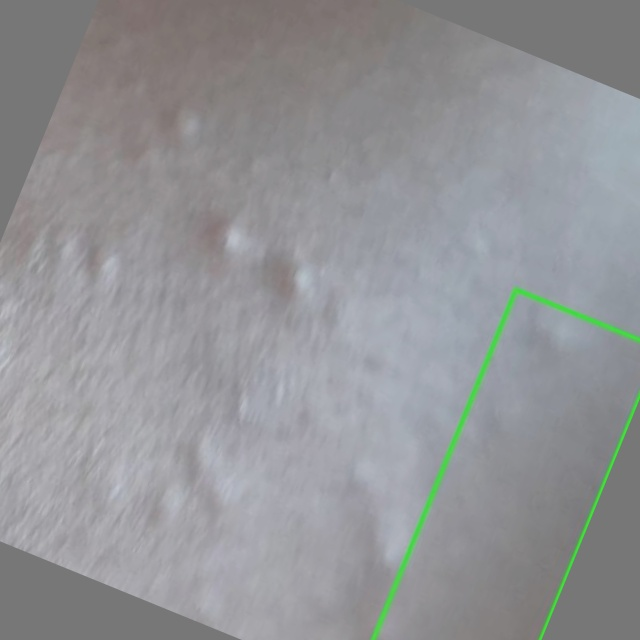Seborrheic Dermatitis: (373, 289, 639, 639)
